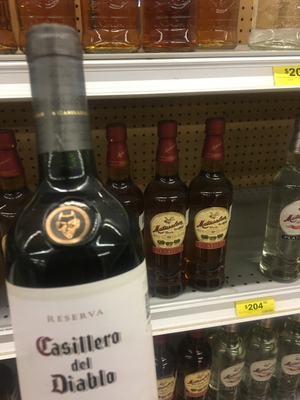casillero del diablo malbec: (6, 25, 172, 400)
